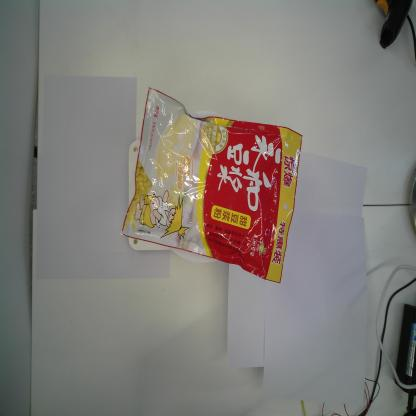Instant Drink: (118, 86, 304, 287)
